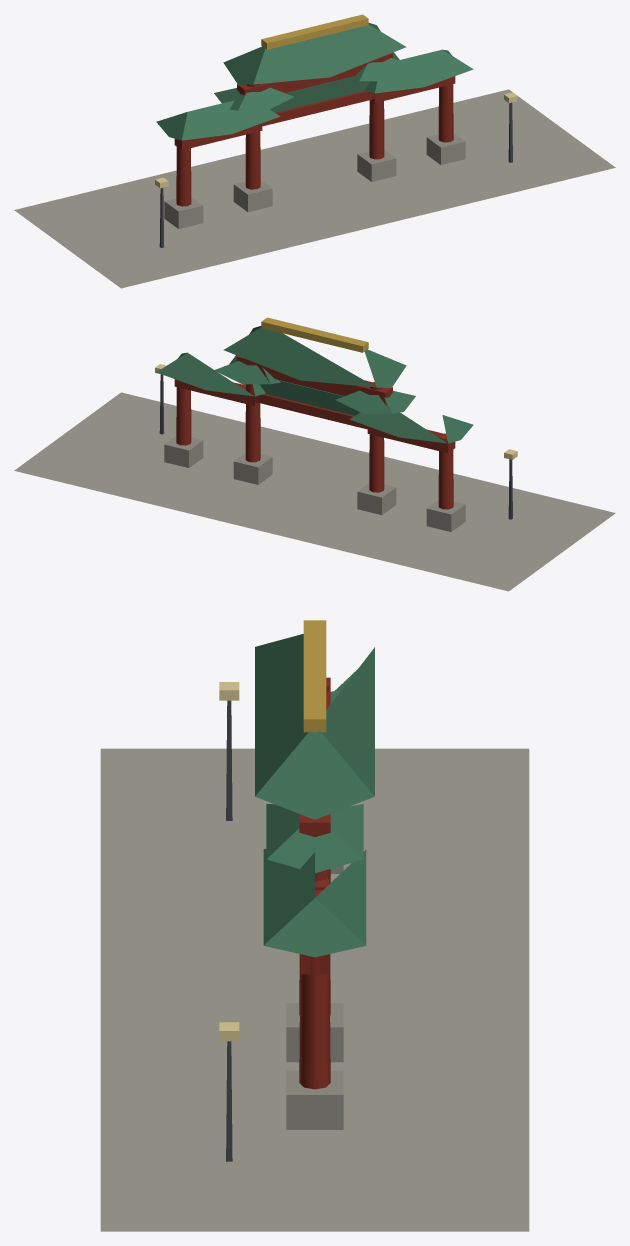
File: desktop.glb
3 renders of one model, top to bottom at view 1: azimuth 30°, elevation 25°; view 2: azimuth 150°, elevation 25°; view 3: azimuth 270°, elevation 25°, orthographic. The views are drawn at different scales.
Parts seen in each view (by area): view 1: lm.dragon-gate; view 2: lm.dragon-gate; view 3: lm.dragon-gate.
Part boxes in pixels (<box>): lm.dragon-gate: <box>14,14,615,288</box>; lm.dragon-gate: <box>14,317,615,591</box>; lm.dragon-gate: <box>100,620,529,1231</box>.
Bounding box in the file's own units: 40 × 14.4 × 15.
